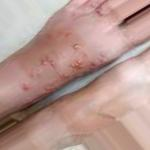Ants: (86, 55, 105, 73), (38, 54, 57, 71), (71, 57, 84, 73), (28, 67, 42, 77), (20, 80, 31, 91), (71, 41, 81, 51), (43, 84, 55, 92), (60, 72, 69, 79)
